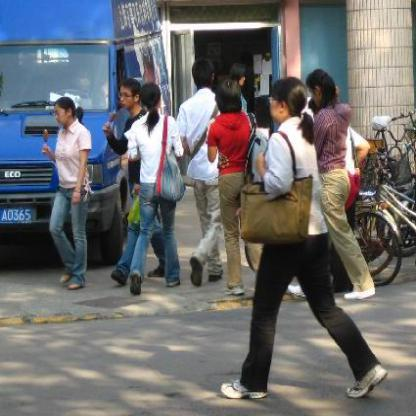person: (224, 78, 387, 398), (30, 97, 100, 292), (126, 83, 184, 299)
